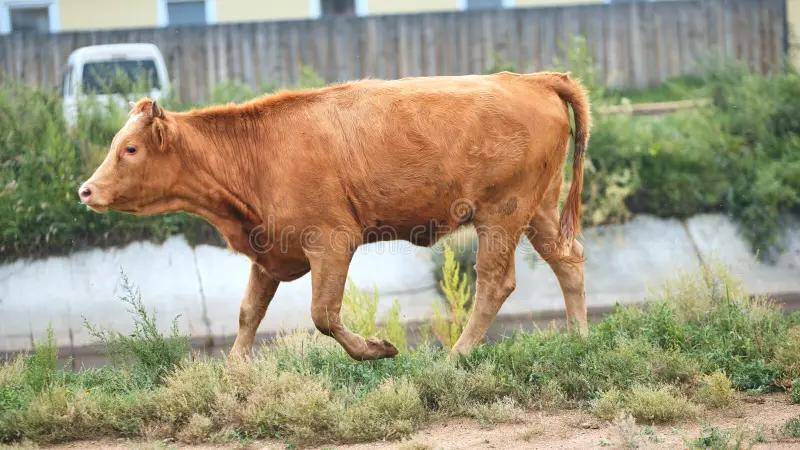fracture: (265, 225, 418, 371)
